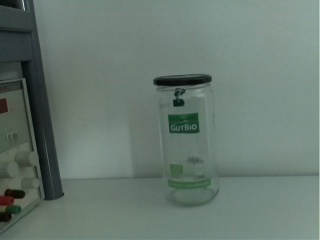pote cristal: (153, 74, 220, 206)
